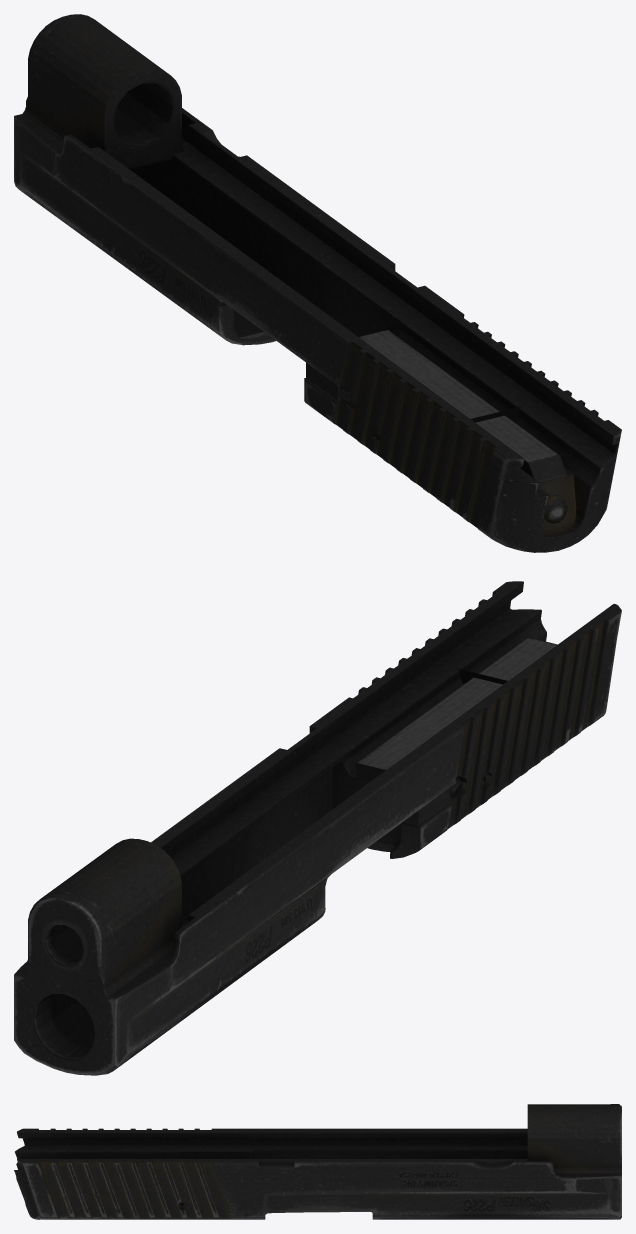
3 views of the same model, one above another, from view 1: azimuth 30°, elevation 25°; view 2: azimuth 150°, elevation 25°; view 3: azimuth 270°, elevation 25° (orthographic). The views are drawn at different scales.
Visible parts, largest first — view 1: TW_56d5a407d2720bb3418b456b_PZ_Import; view 2: TW_56d5a407d2720bb3418b456b_PZ_Import; view 3: TW_56d5a407d2720bb3418b456b_PZ_Import.
Part boxes in pixels (bbox=[...]): TW_56d5a407d2720bb3418b456b_PZ_Import: bbox=[14, 14, 621, 552]; TW_56d5a407d2720bb3418b456b_PZ_Import: bbox=[14, 581, 621, 1075]; TW_56d5a407d2720bb3418b456b_PZ_Import: bbox=[14, 1104, 621, 1219].
Size of the model in its own units: 0.014 by 0.1061 by 0.0204.
Materials: 1 (1 with a texture image).
